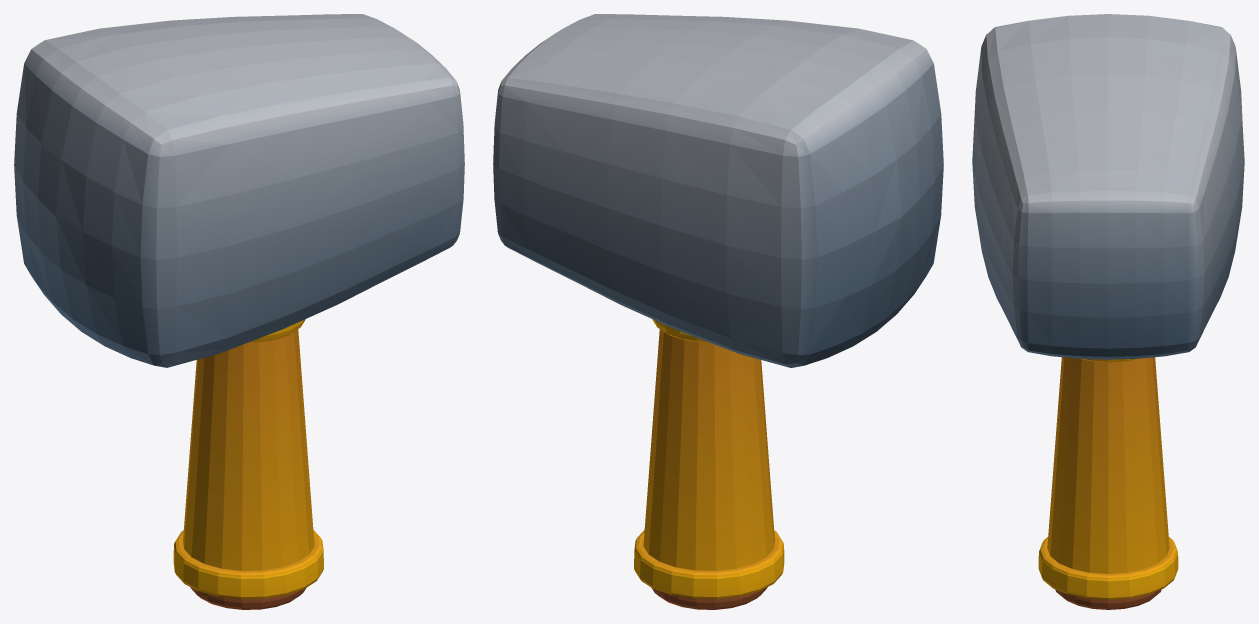
Rendered from Hammer.fbx.
The picture shows the model from 3 angles, left to right: view 1: azimuth 30°, elevation 25°; view 2: azimuth 150°, elevation 25°; view 3: azimuth 270°, elevation 25°; orthographic projection. The views are drawn at different scales.
Visible parts, largest first — view 1: Hammer; view 2: Hammer; view 3: Hammer.
Part boxes in pixels (<box>): Hammer: <box>14,14,464,609</box>; Hammer: <box>493,14,943,609</box>; Hammer: <box>972,14,1244,609</box>.
Bounding box in the file's own units: 11.97 × 16.91 × 8.19.
2 materials, 2 textured.
